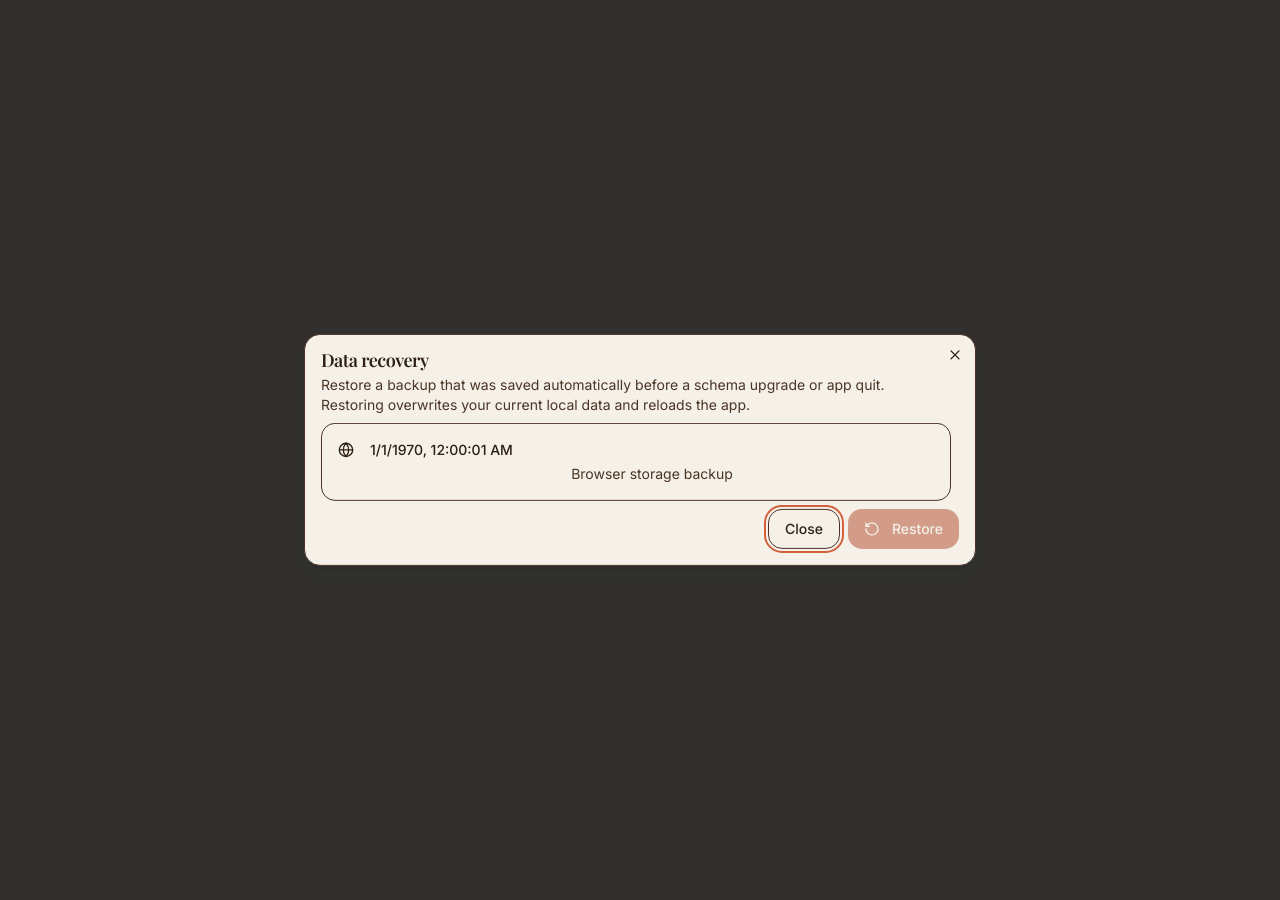
Test case: DataRecoveryDialog › lists backups and lets the user preview one
Click the text "1/1/1970, 12:00:01 AM" at (441, 450), box top-left (370, 440), bottom-right (513, 459)
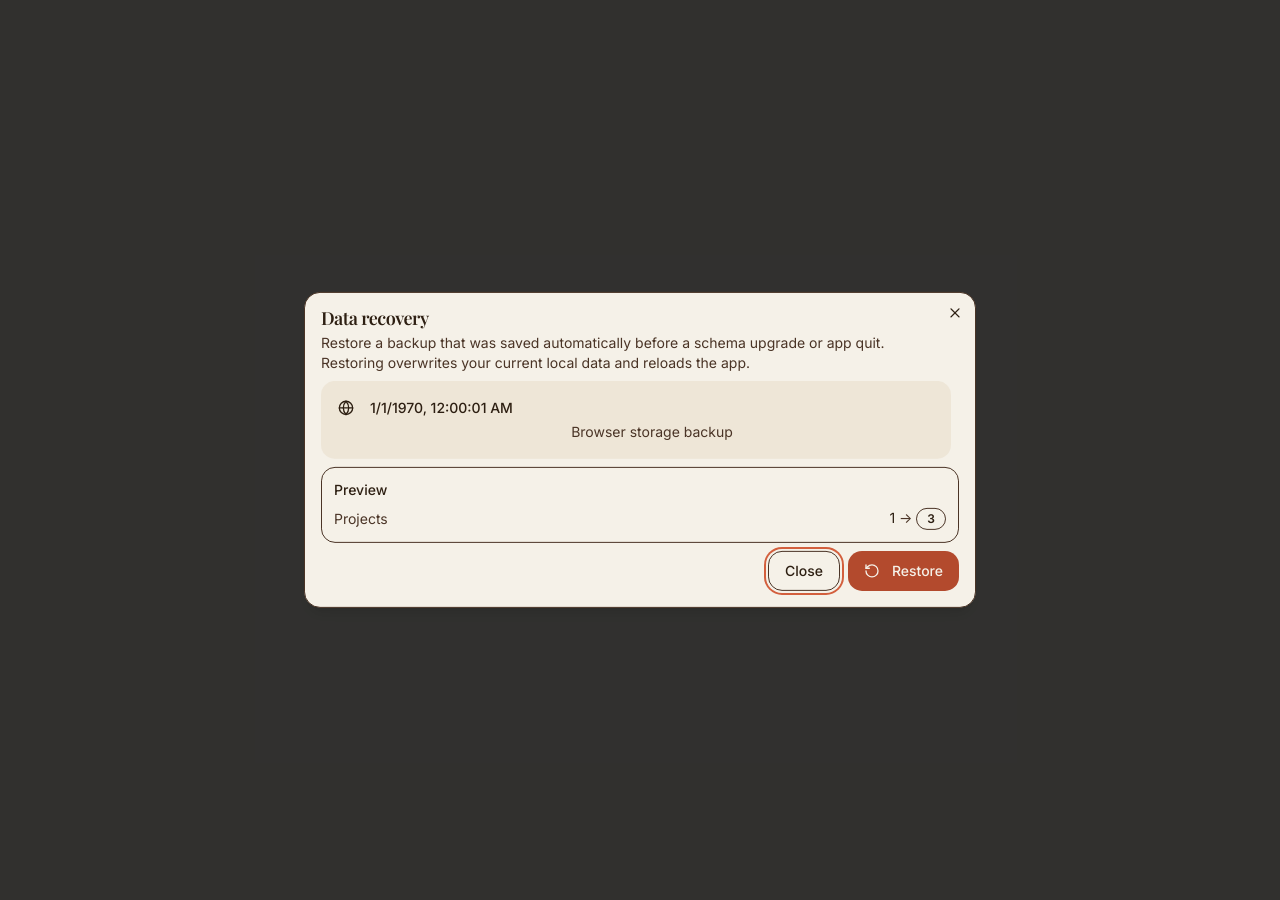
Expected: the text "Projects" is shown, top-left (334, 509), bottom-right (388, 529)
